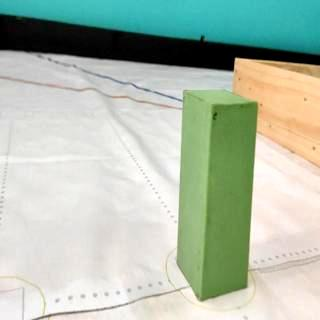greenbox: (177, 87, 259, 301)
